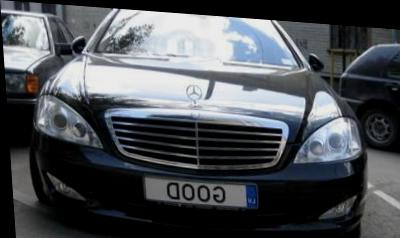License_Plate: (140, 175, 265, 211)
